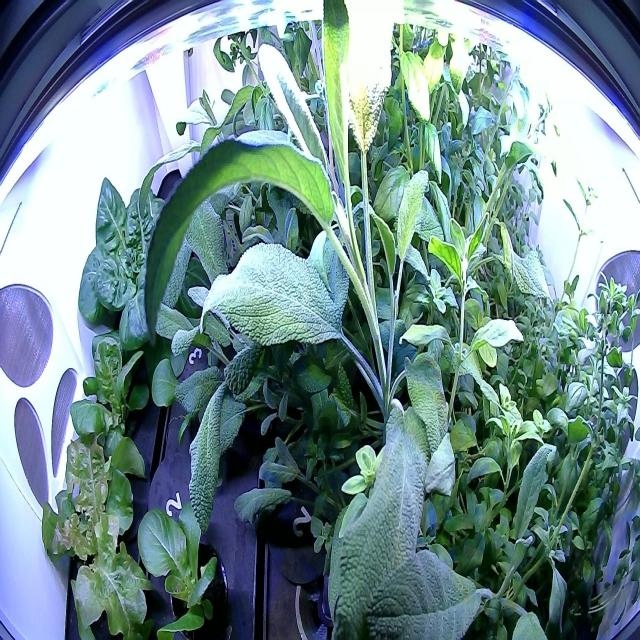Ready: (64, 158, 212, 382)
young: (59, 320, 162, 498), (125, 486, 241, 638)
